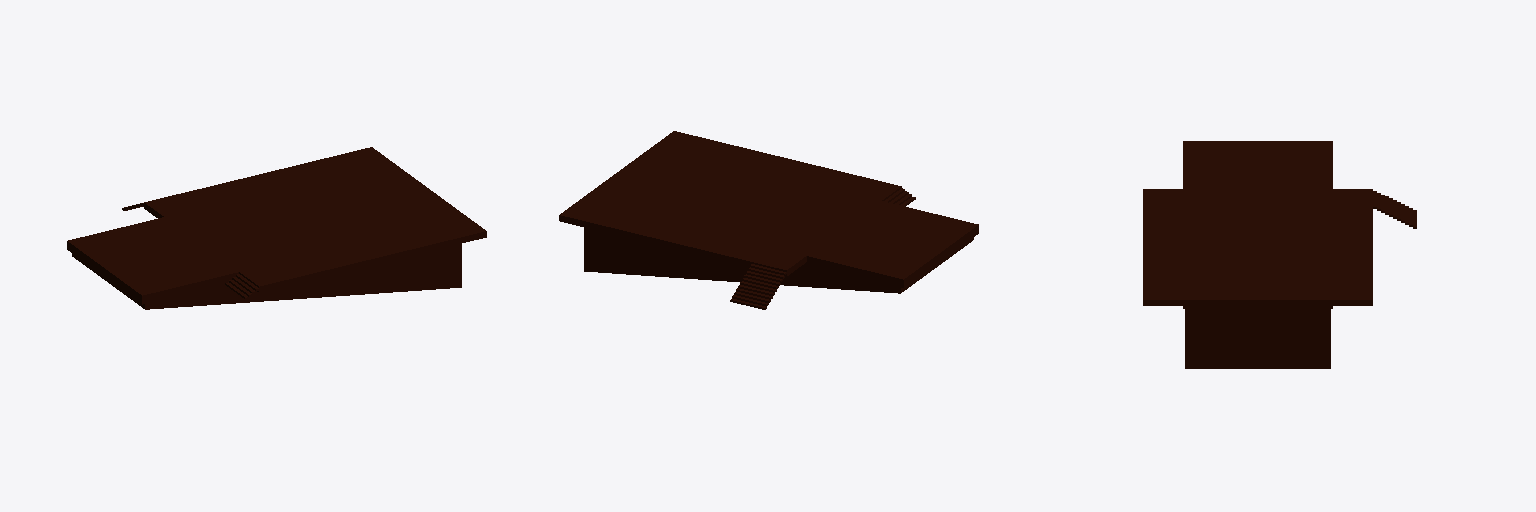
Rendered from Piso.obj.
3 renders of one model, left to right at view 1: azimuth 30°, elevation 25°; view 2: azimuth 150°, elevation 25°; view 3: azimuth 270°, elevation 25°, orthographic.
Parts seen in each view (by area): view 1: Plane.125_Plane.129; view 2: Plane.125_Plane.129; view 3: Plane.125_Plane.129.
Boxes of the visible parts, x1,y1,x2,y2 form: Plane.125_Plane.129: [67, 147, 486, 309]; Plane.125_Plane.129: [559, 131, 978, 309]; Plane.125_Plane.129: [1143, 141, 1416, 368].
Size of the model in its own units: 22.46 by 4.68 by 16.42.